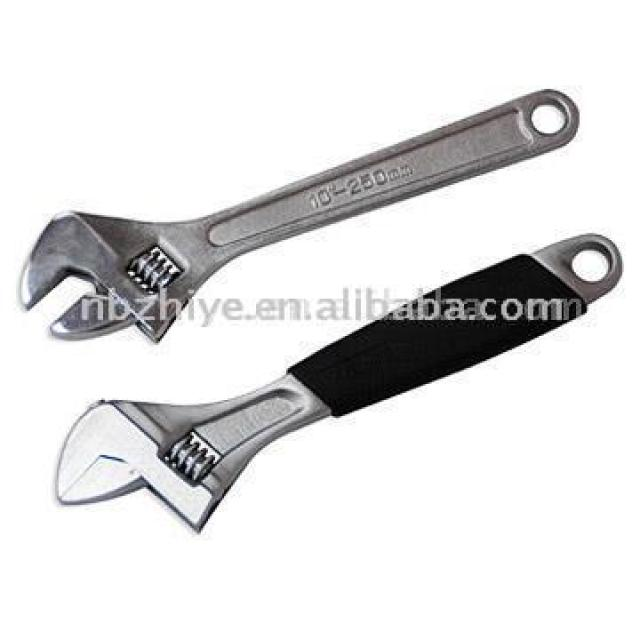wrench: (37, 242, 640, 578), (8, 52, 465, 357)
